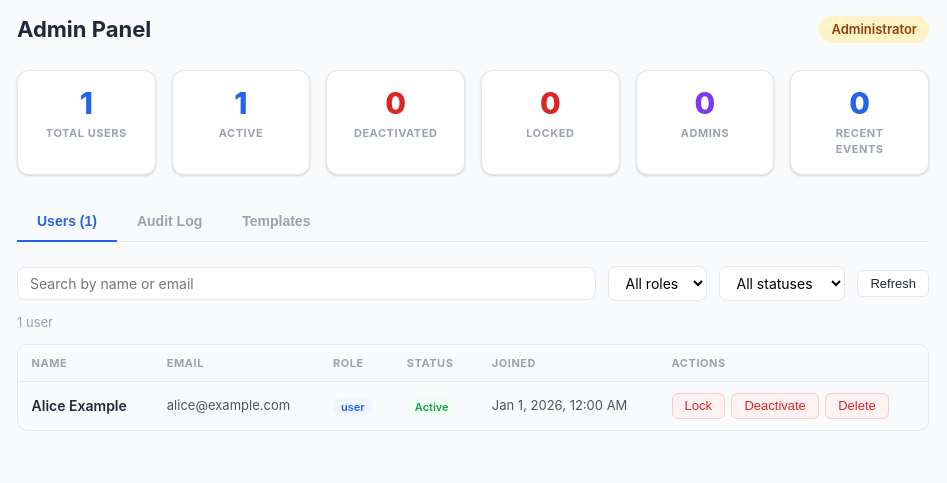
Test case: AdminPanel tabs › switches to logs tab and loads audit log
This screenshot has width=947, height=483.
Click the button "Audit Log" at (170, 222), box [117, 203, 222, 242]
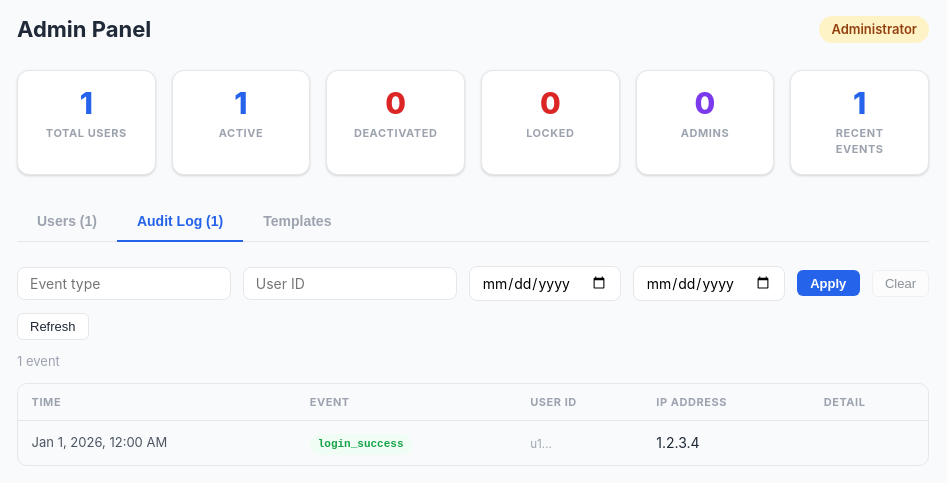
Expected: the text "login_success" is shown, [310, 434, 412, 455]
